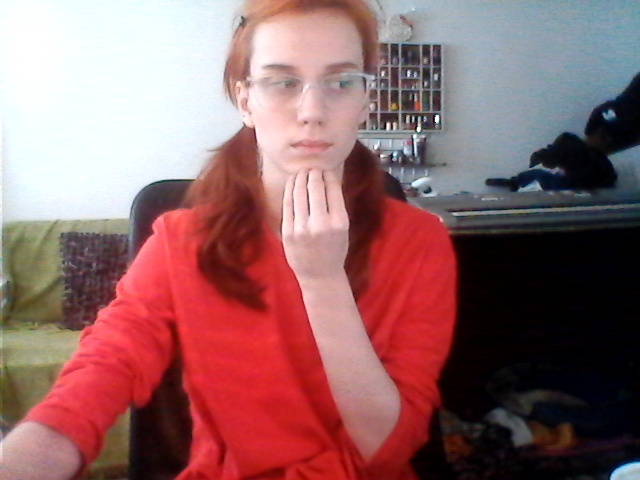c: (275, 138, 359, 268)
